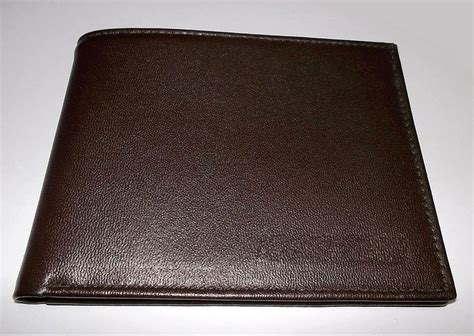cuero: (13, 22, 457, 309)
